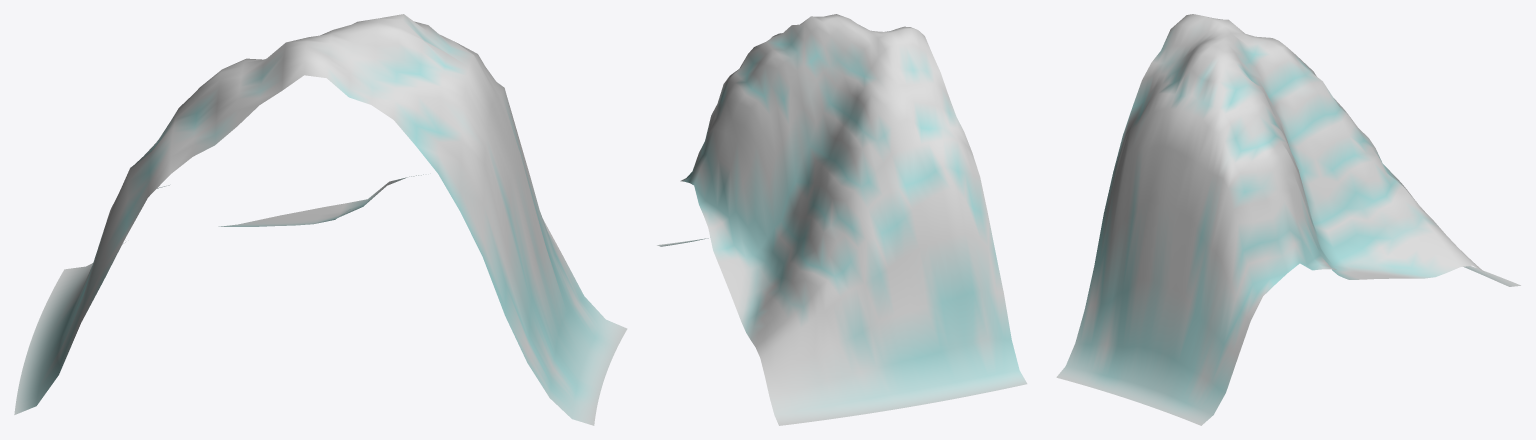
The model's file is near_5.glb.
The picture shows the model from 3 angles, left to right: view 1: azimuth 30°, elevation 25°; view 2: azimuth 150°, elevation 25°; view 3: azimuth 270°, elevation 25°; orthographic projection. The views are drawn at different scales.
Visible parts, largest first — view 1: Mountain; view 2: Mountain; view 3: Mountain.
Boxes of the visible parts, bbox=[...] form: Mountain: bbox=[14, 14, 627, 425]; Mountain: bbox=[657, 14, 1027, 425]; Mountain: bbox=[1056, 14, 1520, 425].
Bounding box in the file's own units: 382 × 240 × 353.
